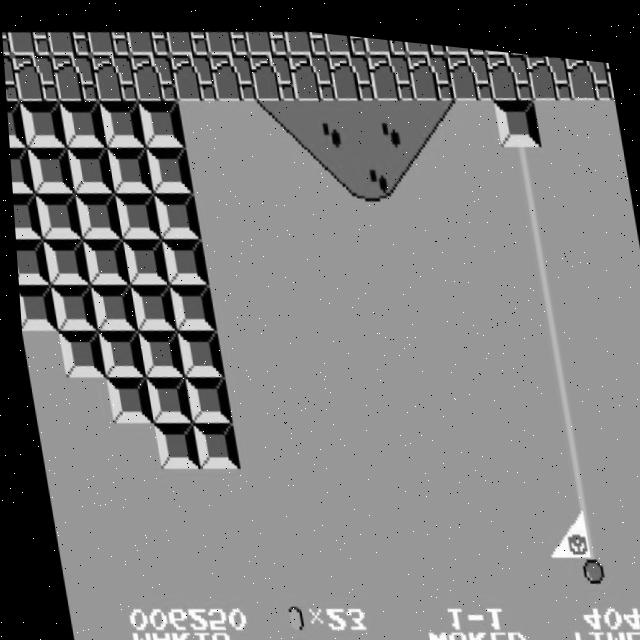17- undestructible_block: (49, 49, 98, 103), (89, 48, 138, 102), (128, 47, 177, 101), (168, 46, 217, 100), (207, 45, 256, 99), (366, 42, 415, 96), (445, 40, 494, 94), (247, 45, 296, 98), (326, 43, 375, 96), (405, 41, 454, 94), (10, 50, 58, 104), (287, 43, 335, 97), (484, 40, 533, 92), (524, 43, 572, 92), (564, 46, 612, 91), (6, 27, 51, 58), (46, 27, 91, 57), (125, 25, 170, 55), (204, 23, 249, 53), (244, 22, 289, 52), (86, 26, 130, 56), (165, 24, 209, 54), (283, 23, 327, 52), (323, 26, 367, 50), (363, 30, 407, 49), (3, 53, 17, 104), (403, 33, 447, 48), (443, 36, 486, 48), (604, 49, 614, 87)
7- goal_pole: (563, 543, 612, 597), (556, 498, 605, 552), (513, 223, 562, 276), (535, 360, 583, 414), (528, 314, 576, 368), (499, 131, 547, 185), (549, 452, 597, 505), (521, 269, 568, 322), (507, 177, 554, 230), (543, 407, 590, 459)
9- hard_block: (53, 325, 102, 379), (24, 142, 73, 196), (17, 96, 66, 150), (78, 233, 127, 287), (139, 369, 188, 423), (132, 323, 181, 377), (103, 140, 152, 194), (96, 94, 145, 148), (157, 231, 206, 285), (92, 325, 141, 378), (100, 370, 148, 424), (64, 141, 112, 195), (57, 95, 105, 149), (179, 368, 227, 422), (143, 139, 191, 193), (136, 93, 184, 147), (492, 85, 540, 139), (46, 280, 94, 333), (39, 234, 87, 287), (118, 232, 166, 285), (172, 323, 220, 376), (125, 279, 173, 331), (32, 188, 79, 241), (86, 279, 133, 332), (187, 415, 234, 468), (165, 277, 212, 330), (72, 188, 119, 240), (147, 416, 194, 468), (111, 187, 158, 239), (151, 186, 198, 238), (15, 282, 53, 334), (12, 235, 46, 288), (10, 191, 40, 242), (8, 144, 32, 196), (5, 99, 25, 150)
